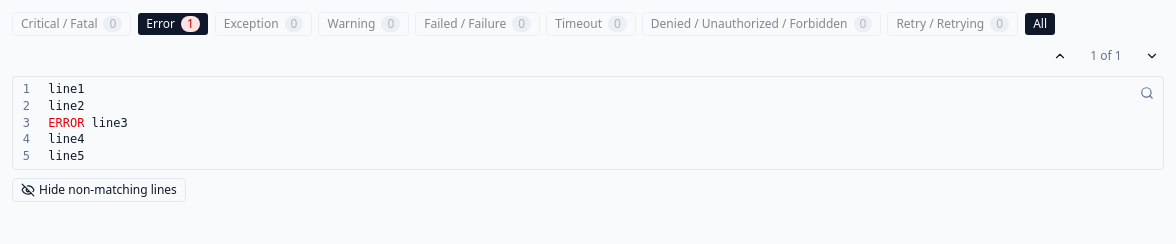
LogViewerWidget › unfolds everything again when "Hide non-matching lines" is toggled back off
Click the button "Hide non-matching lines".
click(99, 190)  # box x1=12 y1=178 x2=186 y2=202
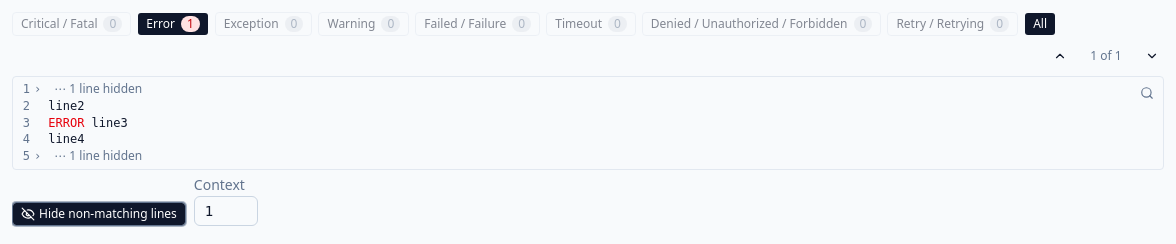
expect the text "line1" is gone: met
Click the button "Hide non-matching lines".
click(99, 214)  # box x1=12 y1=202 x2=186 y2=226
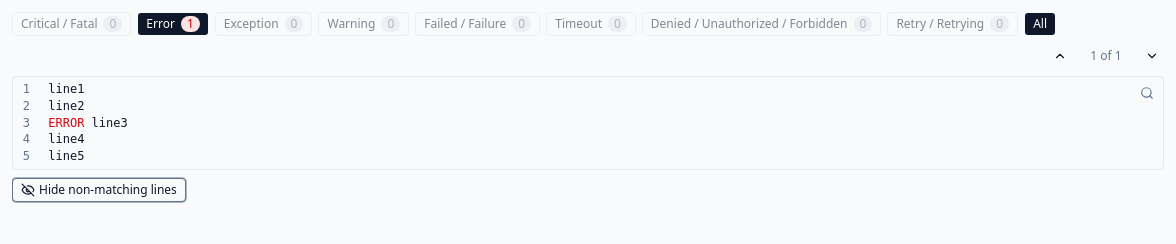
expect no elements with class "cm-log-fold-placeholder" are shown: met
expect the text "line1" is shown: met, box x1=48 y1=82 x2=84 y2=96
expect the text "line5" is shown: met, box x1=48 y1=149 x2=84 y2=163
